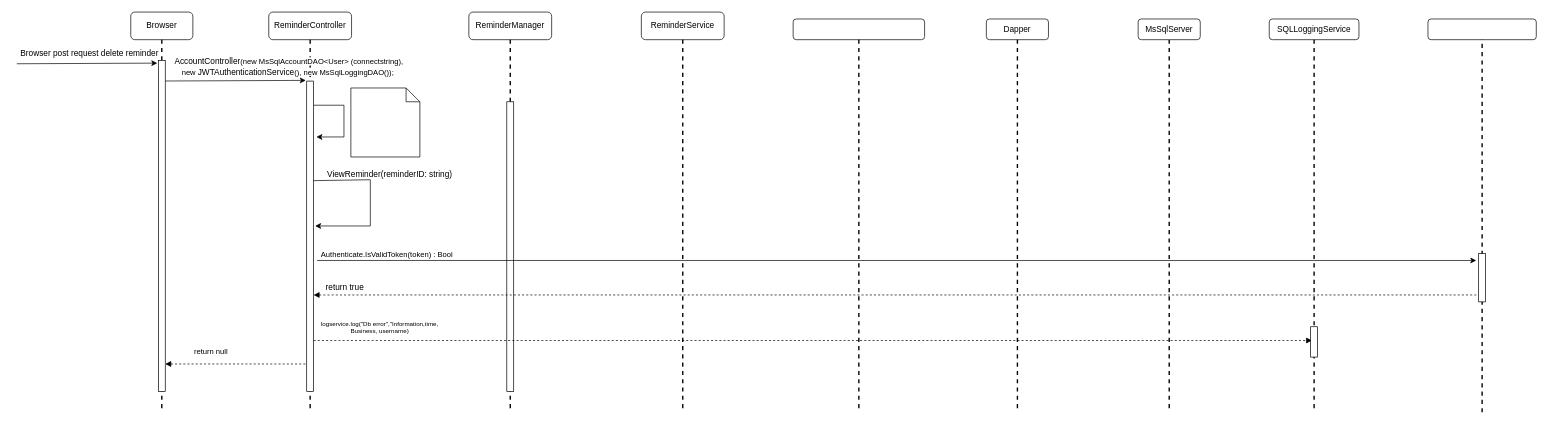
This 1549x425 diagram has some shape labels left out. Here are the shapes that lost their labels. From the top down, the box of each, then its label:
(792, 18, 925, 40): ReminderMsSqlDao
(1427, 18, 1536, 40): JWTAuthenticationService
(350, 87, 420, 157): Constructor Dependency Injection
